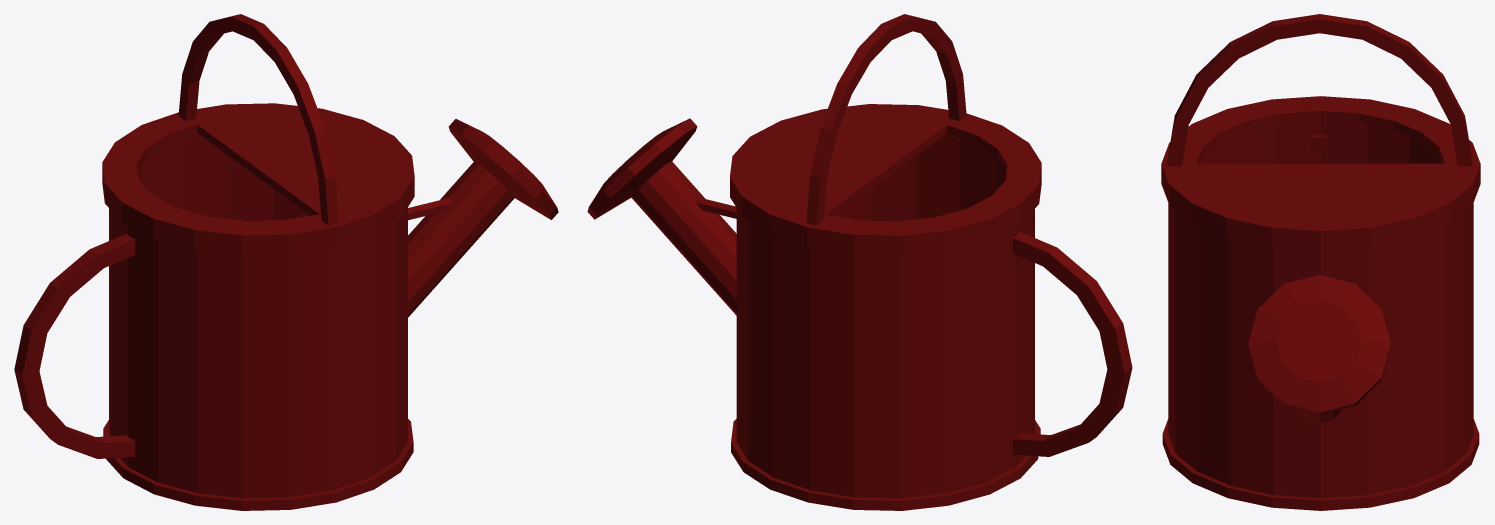
File: watering can.fbx
3 renders of one model, left to right at view 1: azimuth 30°, elevation 25°; view 2: azimuth 150°, elevation 25°; view 3: azimuth 270°, elevation 25°, orthographic.
Parts seen in each view (by area): view 1: watering can; view 2: watering can; view 3: watering can.
Boxes of the visible parts, x1,y1,x2,y2 form: watering can: (14,14,558,510); watering can: (587,14,1132,510); watering can: (1161,14,1480,510).
Size of the model in its own units: 17.31 by 13.16 by 8.9.
